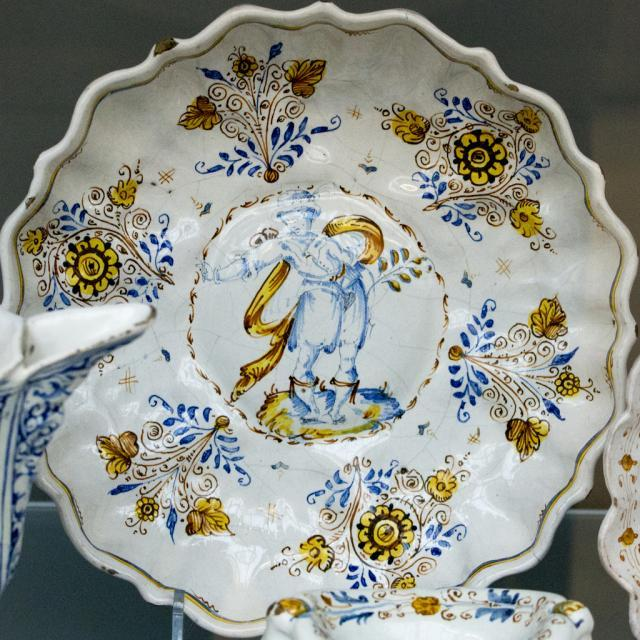ceramic plate: (7, 9, 640, 620)
